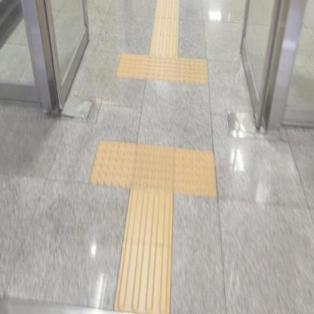Podoctatil: (88, 141, 218, 200), (113, 194, 175, 314), (120, 54, 208, 85), (150, 0, 181, 54)
